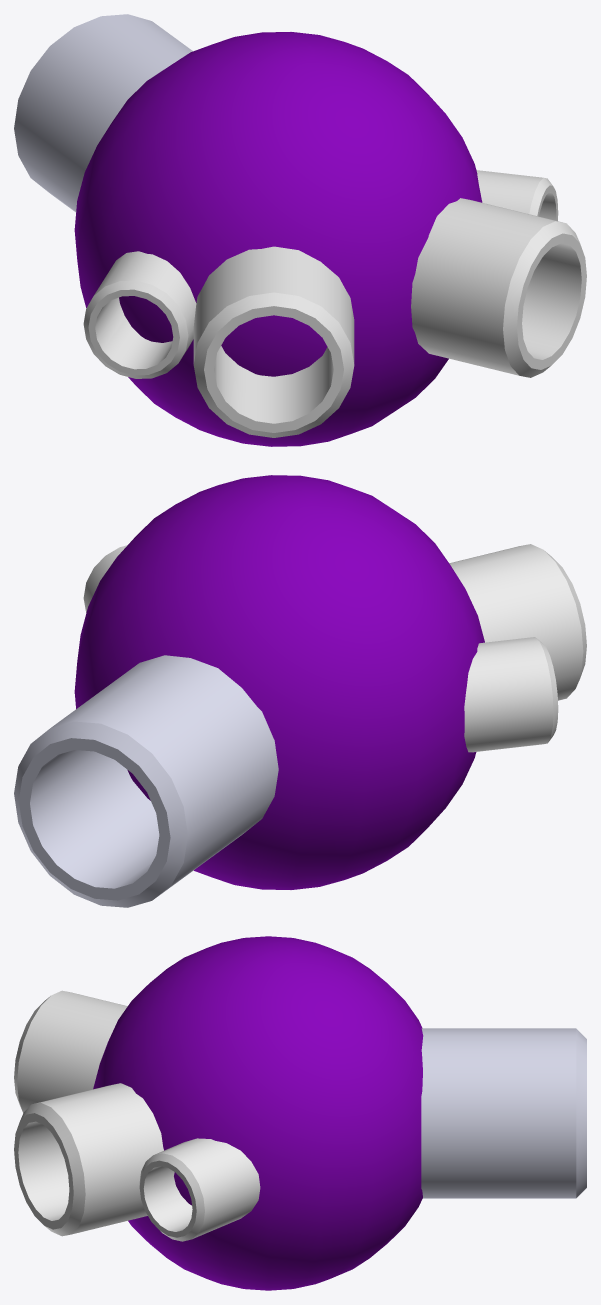
File: Speedy ship.fbx
3 renders of one model, top to bottom at view 1: azimuth 30°, elevation 25°; view 2: azimuth 150°, elevation 25°; view 3: azimuth 270°, elevation 25°, orthographic. The views are drawn at different scales.
Visible parts, largest first — view 1: pCylinder8; view 2: pCylinder8; view 3: pCylinder8.
Boxes of the visible parts, bbox=[...] form: pCylinder8: bbox=[14, 14, 586, 446]; pCylinder8: bbox=[14, 475, 586, 907]; pCylinder8: bbox=[14, 936, 586, 1290].
Bounding box in the file's own units: 2.61 × 2 × 3.23.
